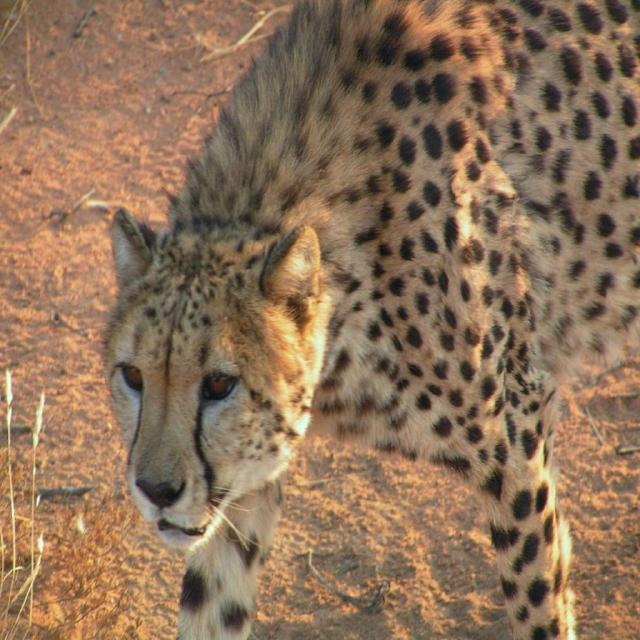Cheetah: (99, 0, 639, 639)
